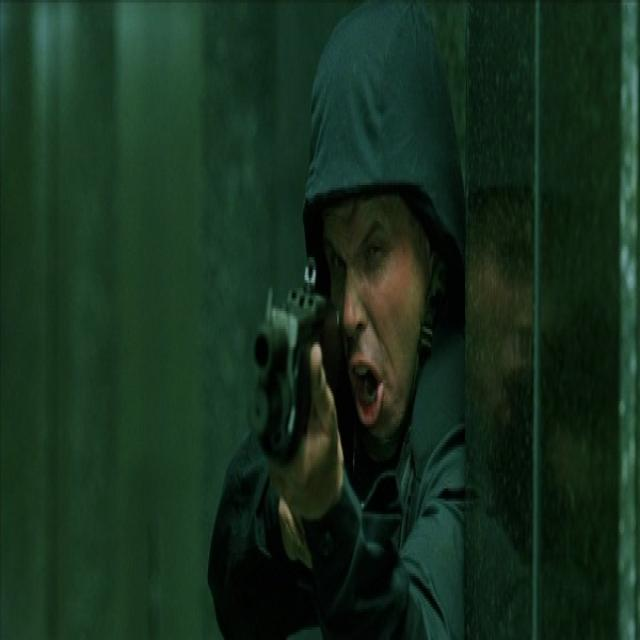rifle: (252, 253, 335, 465)
